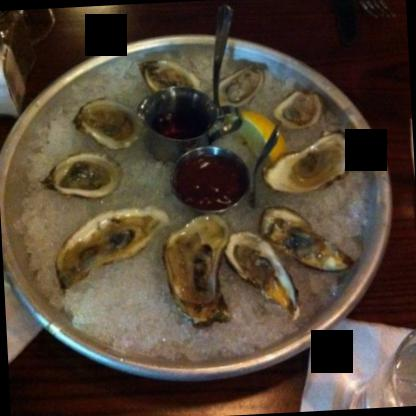oyster: (161, 209, 237, 322), (47, 206, 162, 278), (265, 203, 358, 282), (224, 223, 296, 322), (266, 120, 350, 196), (46, 152, 123, 212), (79, 94, 140, 154)
